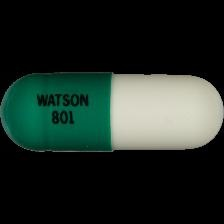53808-0429: (0, 0, 224, 224)
